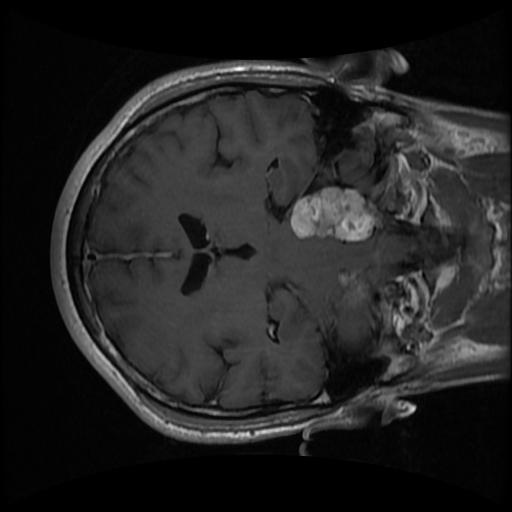meningioma: (288, 186, 373, 244)
